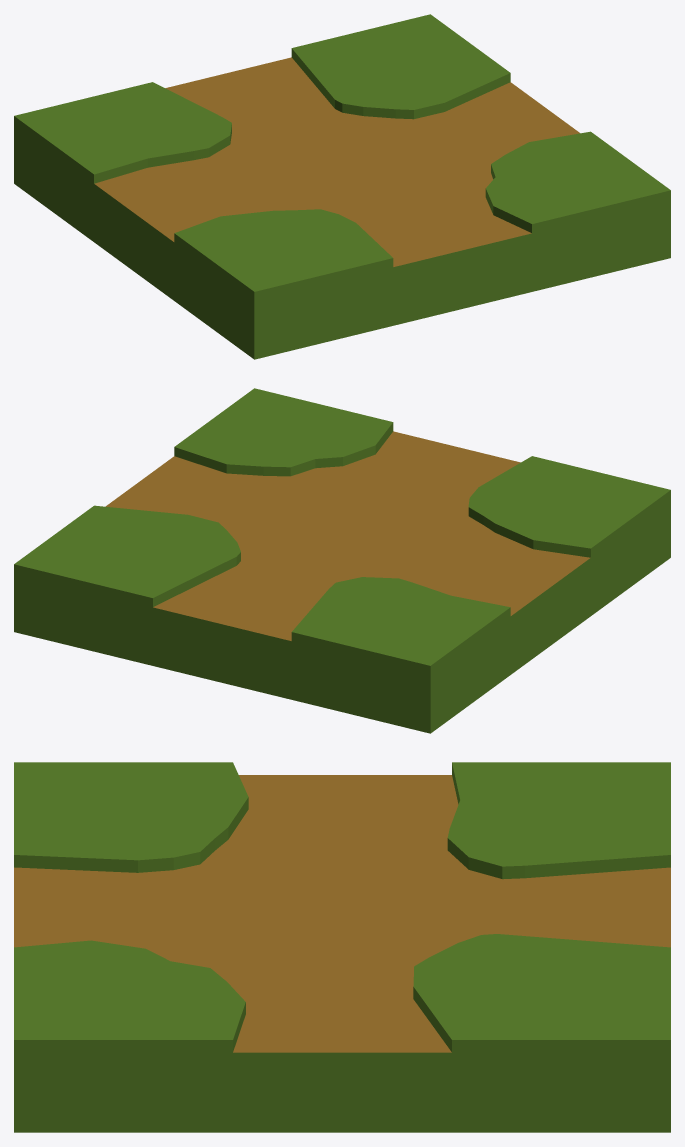
File: Crossroads.fbx
3 views of the same model, one above another, from view 1: azimuth 30°, elevation 25°; view 2: azimuth 150°, elevation 25°; view 3: azimuth 270°, elevation 25° (orthographic). The views are drawn at different scales.
Parts seen in each view (by area): view 1: Crossroads; view 2: Crossroads; view 3: Crossroads.
Boxes of the visible parts, x1,y1,x2,y2 form: Crossroads: (14,14,670,359); Crossroads: (14,388,670,733); Crossroads: (14,762,670,1132).
Bounding box in the file's own units: 450 × 70 × 450.
